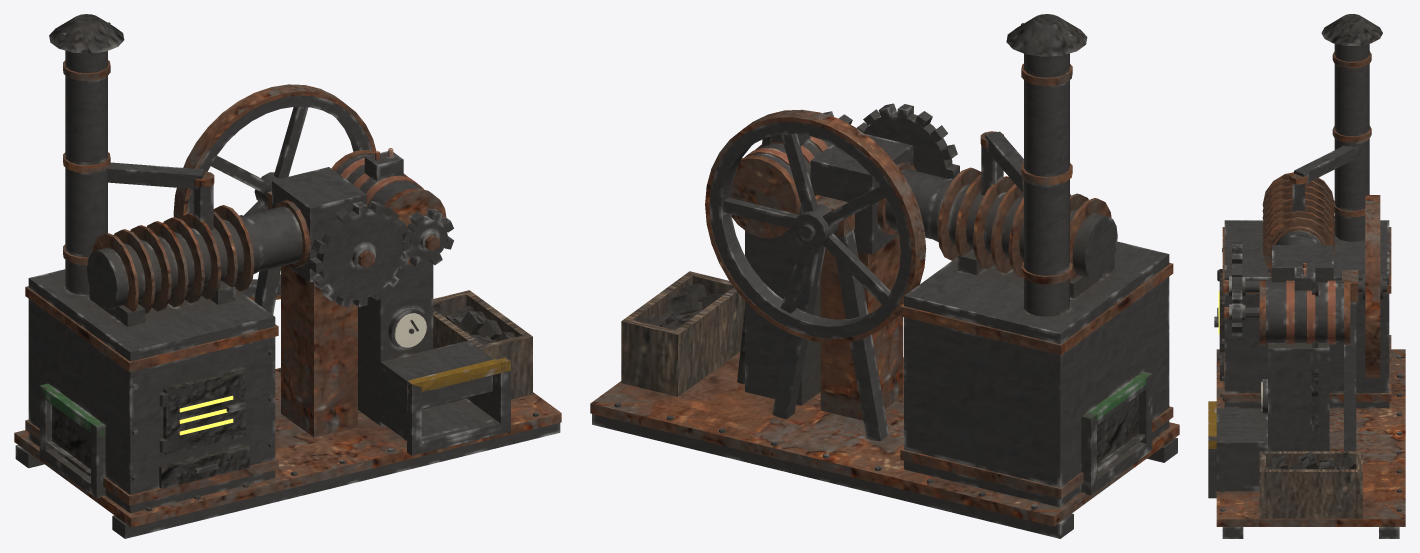
Rendered from feCoalGenerator_HD.fbx.
3 views of the same model, side by side, from view 1: azimuth 30°, elevation 25°; view 2: azimuth 150°, elevation 25°; view 3: azimuth 270°, elevation 25° (orthographic). The views are drawn at different scales.
Parts seen in each view (by area): view 1: feCoalGen_Base, feCoalGen_Crank, feCoalGen_DynamoRotor; view 2: feCoalGen_Base, feCoalGen_Crank; view 3: feCoalGen_Base, feCoalGen_Crank, feCoalGen_DynamoRotor.
Part boxes in pixels (x1,y1,x2,y2): feCoalGen_Base: (14, 14, 561, 538); feCoalGen_Crank: (173, 84, 410, 307); feCoalGen_DynamoRotor: (402, 208, 453, 267); feCoalGen_Base: (590, 14, 1179, 538); feCoalGen_Crank: (705, 103, 959, 343); feCoalGen_Base: (1208, 14, 1405, 538); feCoalGen_Crank: (1224, 195, 1387, 377); feCoalGen_DynamoRotor: (1224, 288, 1259, 336).
Size of the model in its own units: 1.99 by 1.96 by 0.96.
1 material, 1 textured.
